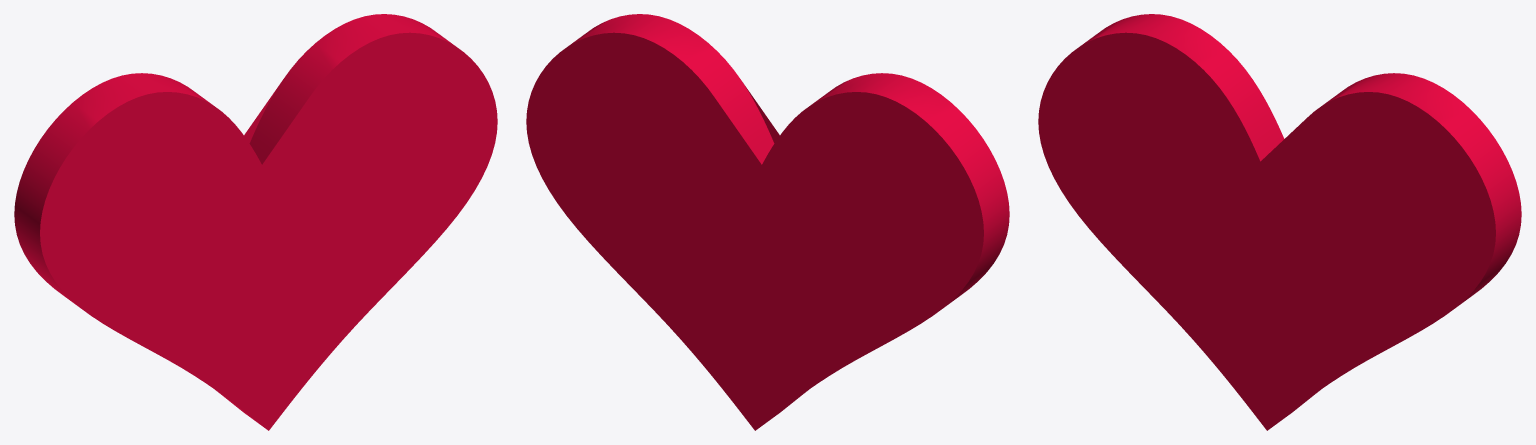
The model's file is heart.fbx.
3 views of the same model, side by side, from view 1: azimuth 30°, elevation 25°; view 2: azimuth 150°, elevation 25°; view 3: azimuth 330°, elevation 25° (orthographic).
Visible parts, largest first — view 1: Plane; view 2: Plane; view 3: Plane.
Boxes of the visible parts, left/top/right/bottom form: Plane: left=14, top=14, right=497, bottom=430; Plane: left=526, top=14, right=1009, bottom=430; Plane: left=1038, top=14, right=1521, bottom=430.
Size of the model in its own units: 1133 by 867 by 110.
